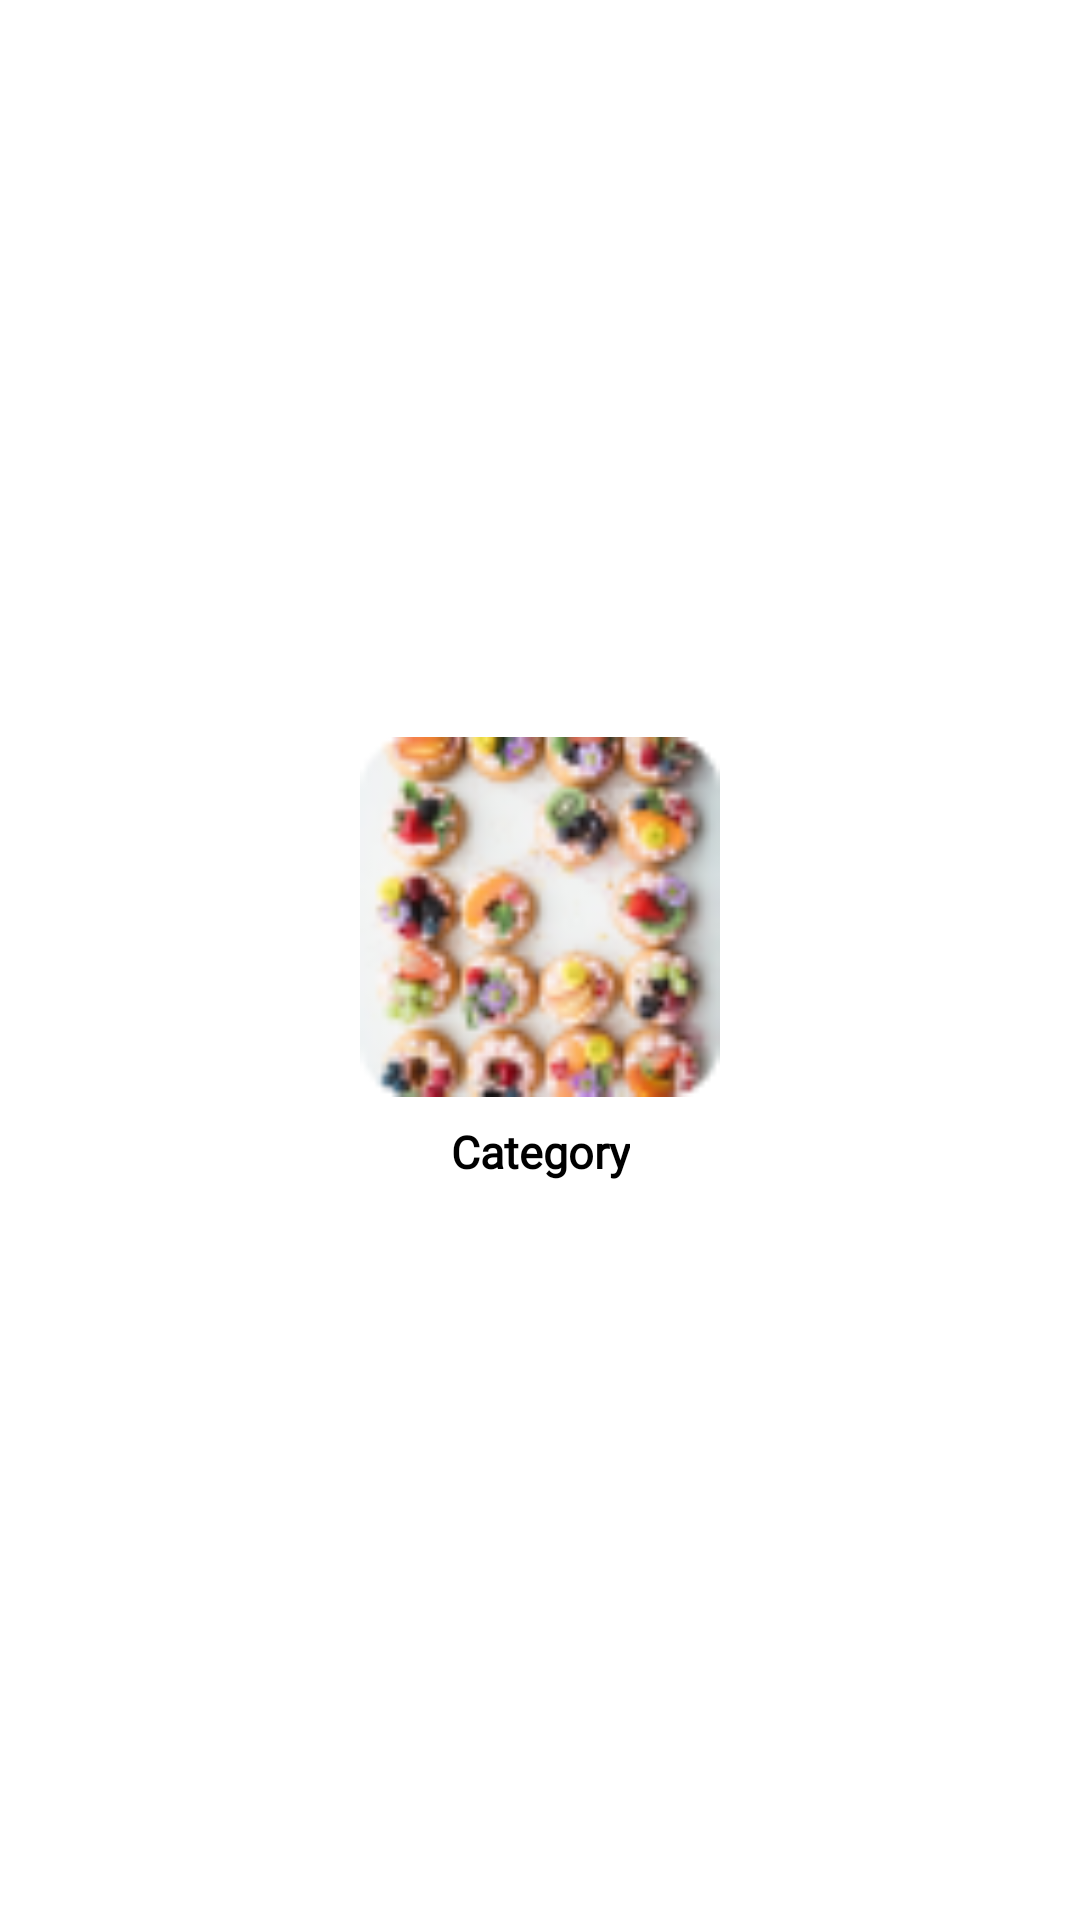

Where icons sit on this 1080 × 1920 app screen, as (x1, y1, x2, y2):
product: (375, 737, 720, 1097)
